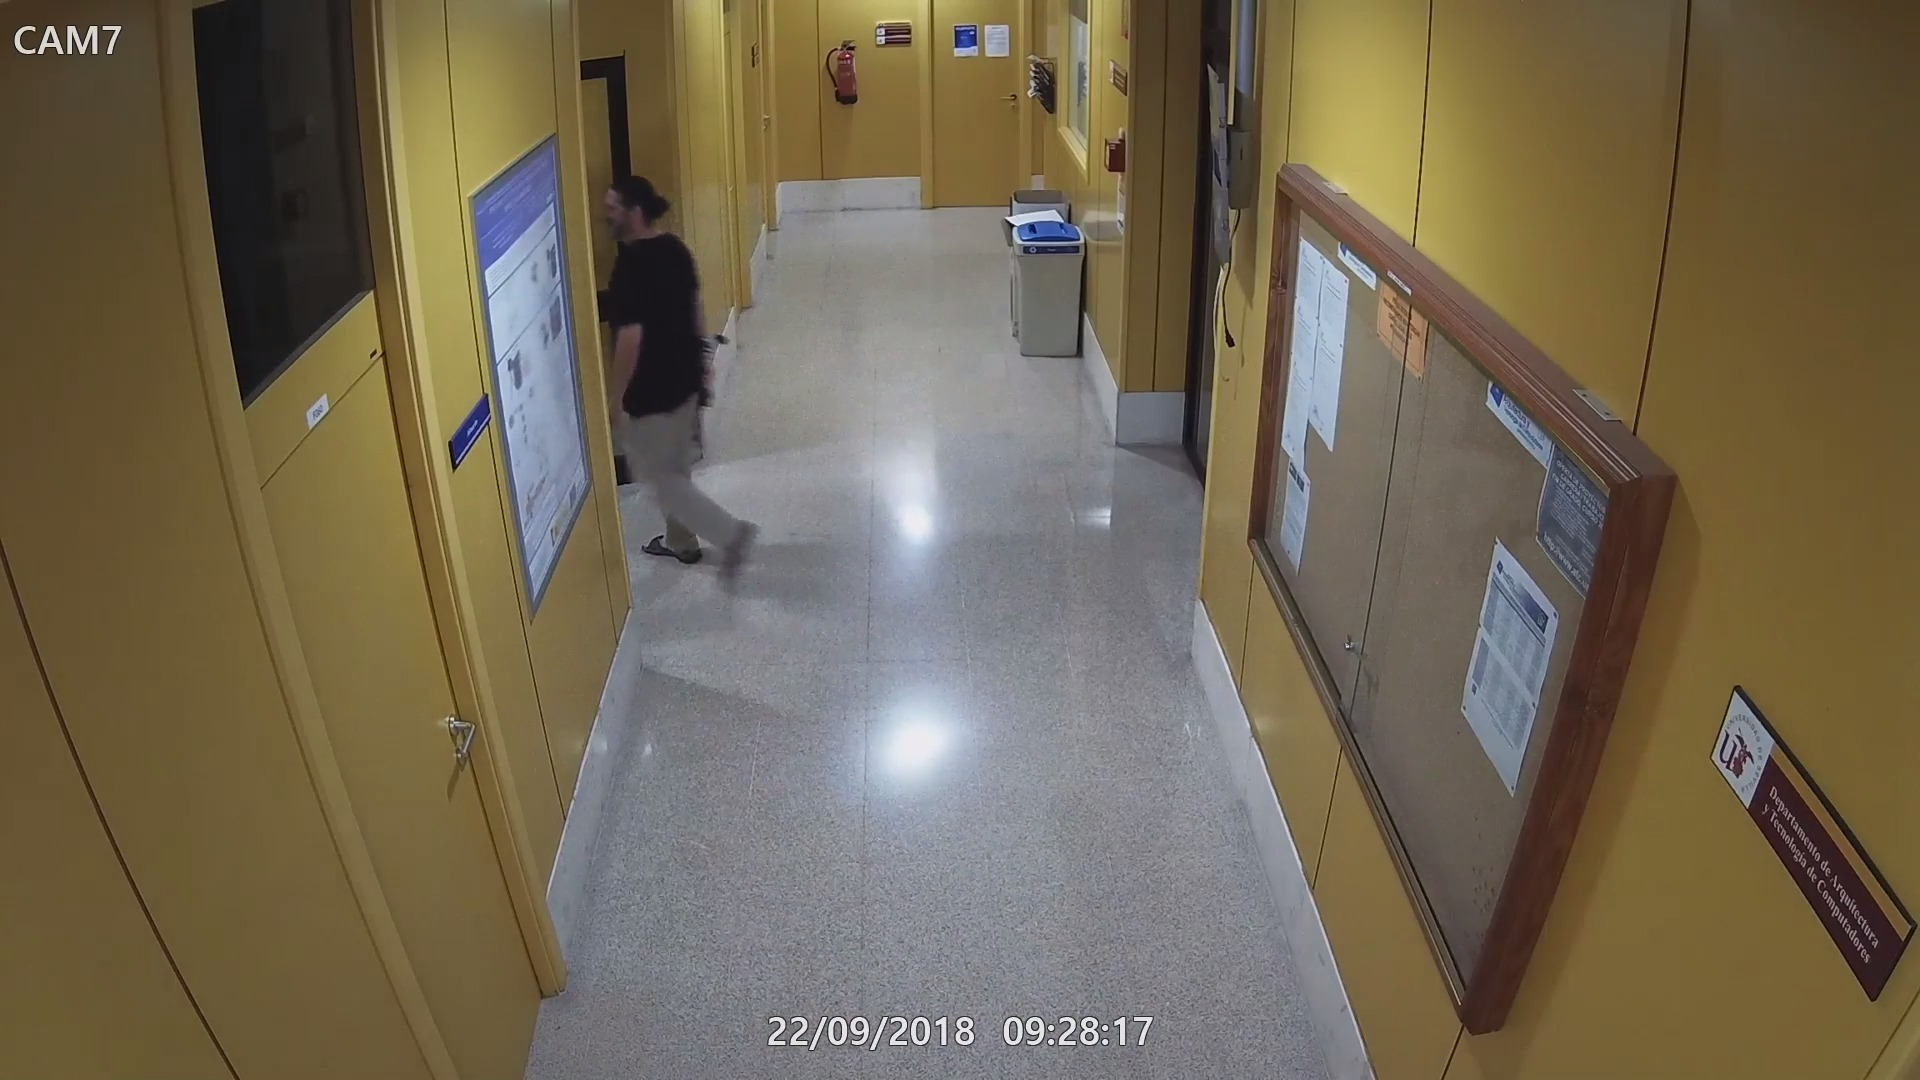Short_rifle: (688, 334, 723, 464)
